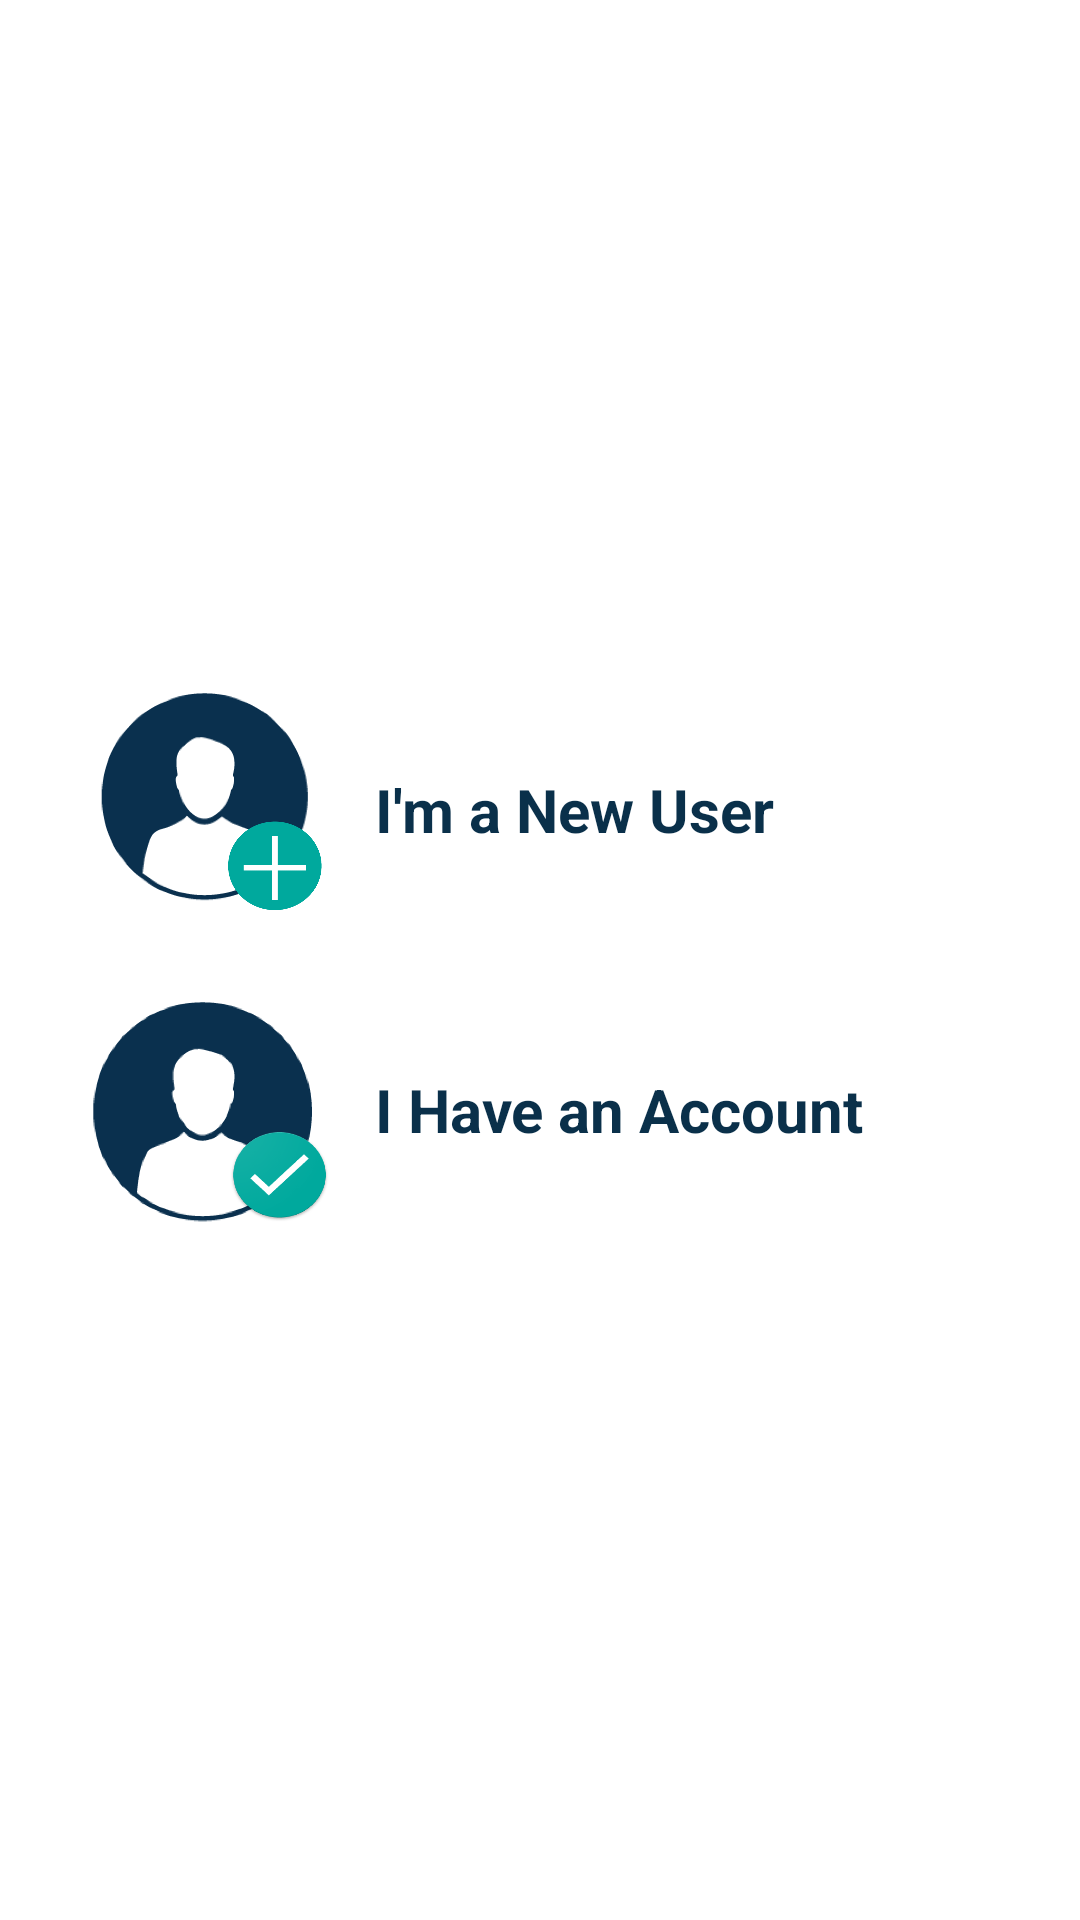

Named icons in this screenshot (1080×1920) and their centers, (x,y):
person: (211,801), (209,1112)
